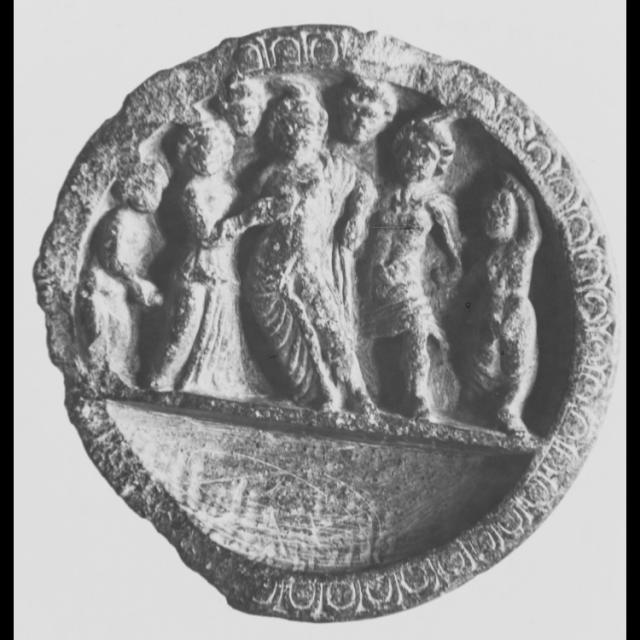buddha-standing: (246, 93, 378, 410)
